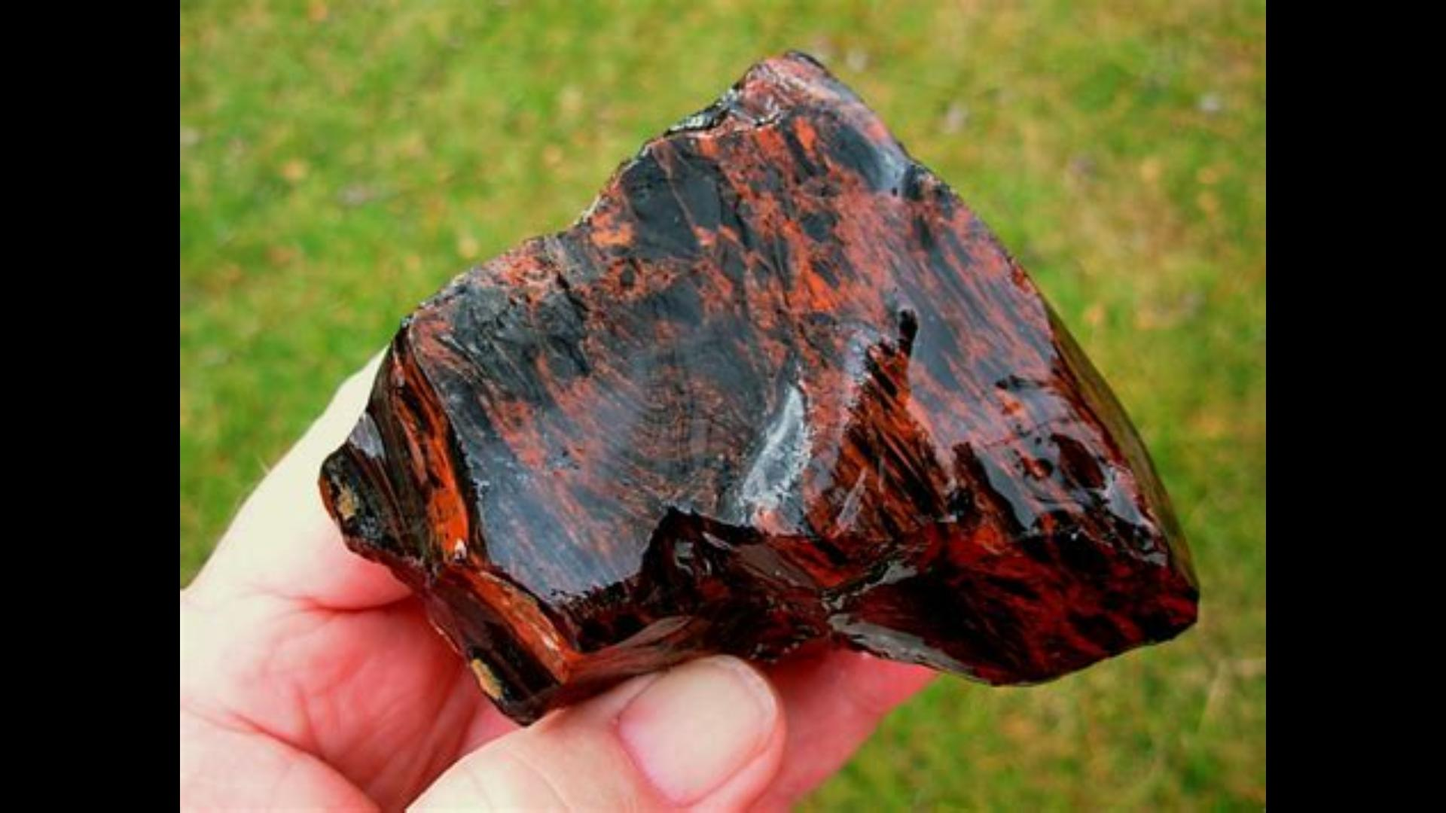rock: (324, 55, 1193, 717)
